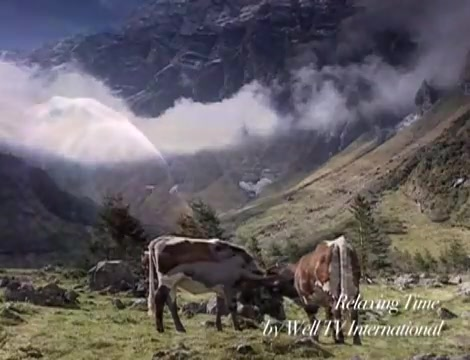cow: (145, 236, 289, 341)
